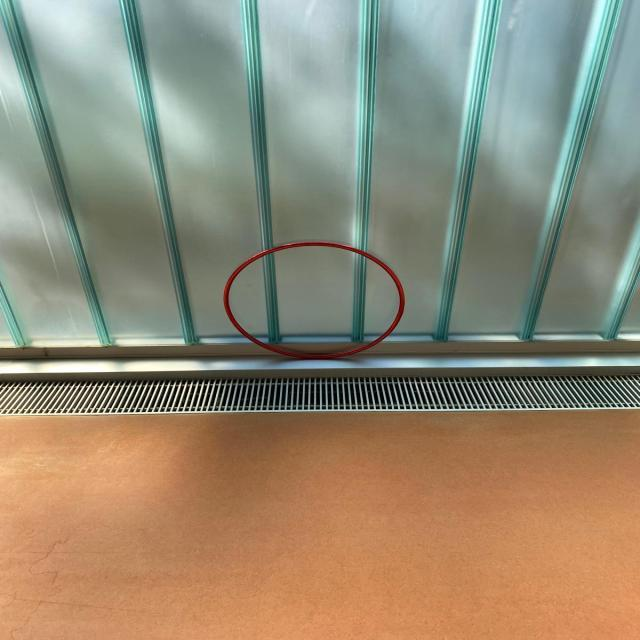Circle: (222, 238, 406, 362)
